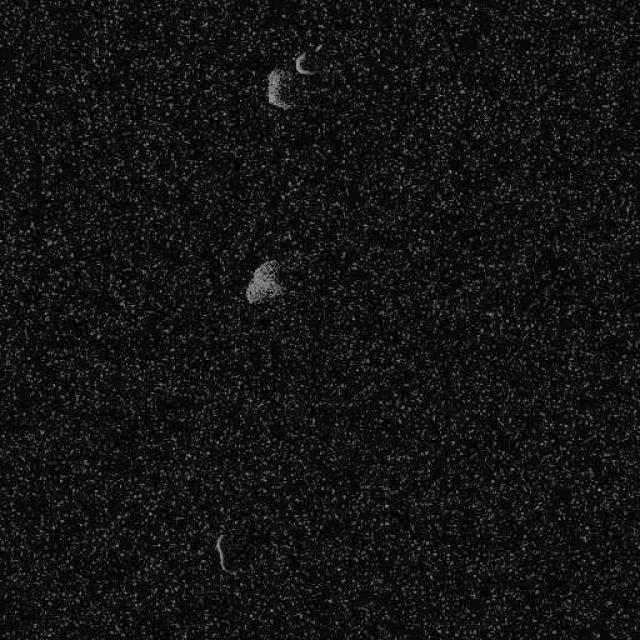D2: (244, 257, 286, 305), (264, 66, 294, 112), (212, 534, 236, 576), (294, 49, 318, 75)
